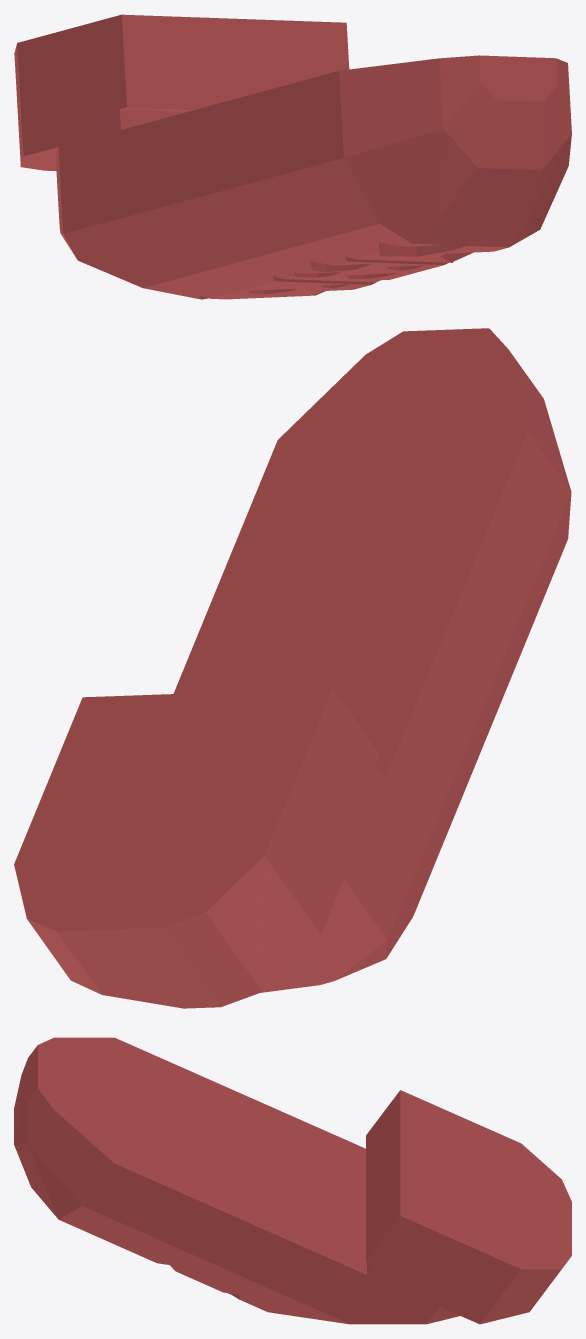
File: kaizoku_ship.glb
3 renders of one model, top to bottom at view 1: azimuth 30°, elevation 25°; view 2: azimuth 150°, elevation 25°; view 3: azimuth 270°, elevation 25°, orthographic. The views are drawn at different scales.
Parts seen in each view (by area): view 1: kaizoku_ship_col; view 2: kaizoku_ship_col; view 3: kaizoku_ship_col.
Part boxes in pixels (bbox=[...]): kaizoku_ship_col: bbox=[14, 14, 571, 299]; kaizoku_ship_col: bbox=[14, 328, 571, 1008]; kaizoku_ship_col: bbox=[14, 1037, 571, 1324].
Size of the model in its own units: 3.11 by 3.46 by 6.89.
